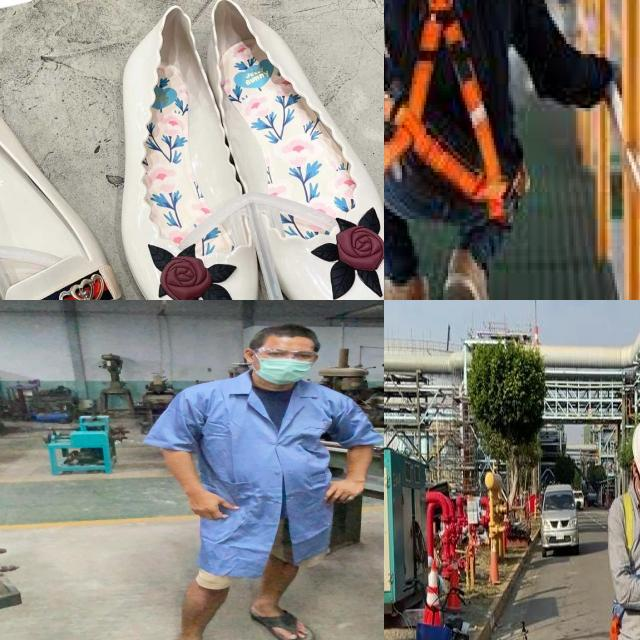Harness: (384, 0, 513, 229), (623, 490, 640, 577)
Sandals: (95, 0, 384, 300), (0, 53, 145, 300)
face_mask: (252, 345, 320, 385)
glasses: (248, 346, 322, 365)
hand_noglove: (181, 489, 241, 522), (320, 478, 367, 506)
head_nohelmet: (249, 319, 323, 347)
person: (135, 316, 384, 640)
